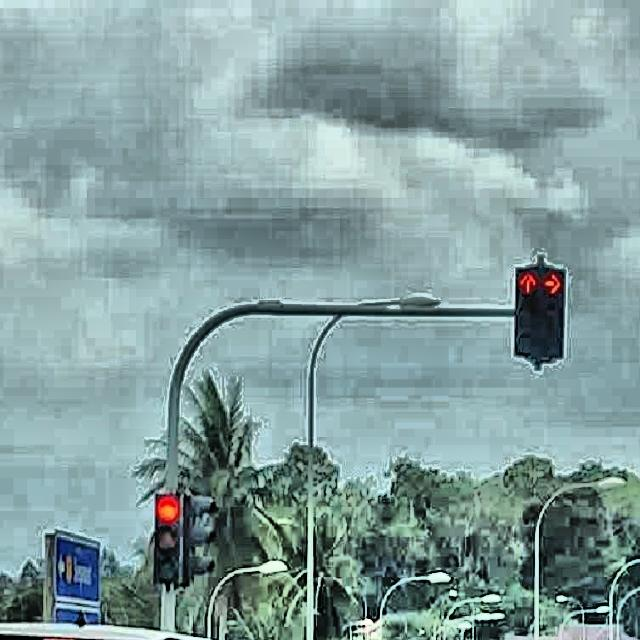red: (514, 265, 542, 355), (539, 266, 564, 360), (153, 492, 178, 580)
